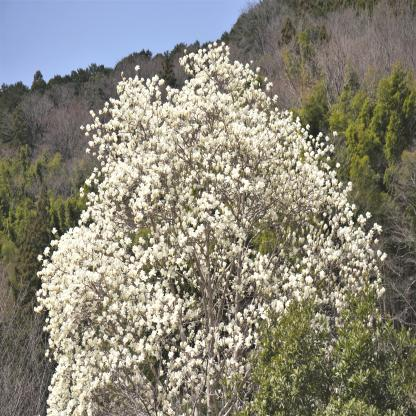Mokuren: (34, 39, 388, 416)
